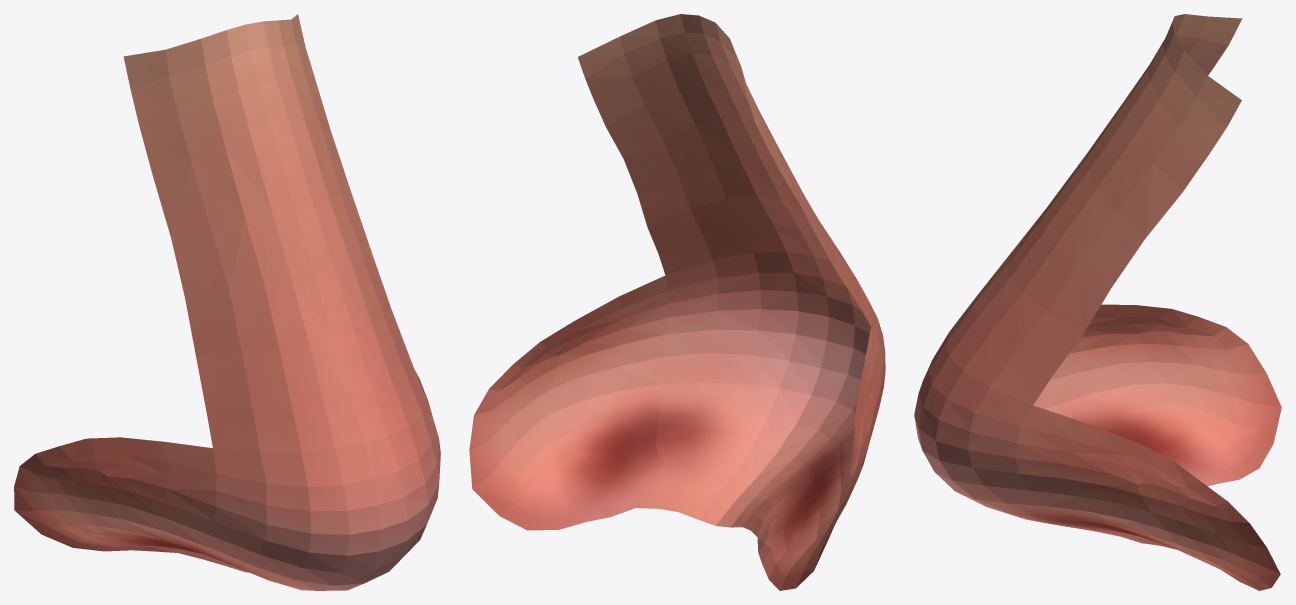
The model's file is euro-fem-nose-tilt-up.obj.
3 renders of one model, left to right at view 1: azimuth 30°, elevation 25°; view 2: azimuth 150°, elevation 25°; view 3: azimuth 270°, elevation 25°, orthographic. The views are drawn at different scales.
Visible parts, largest first — view 1: euro-fem-nose-til.003; view 2: euro-fem-nose-til.003; view 3: euro-fem-nose-til.003.
Boxes of the visible parts, x1,y1,x2,y2 form: euro-fem-nose-til.003: (14, 14, 440, 590); euro-fem-nose-til.003: (469, 14, 885, 590); euro-fem-nose-til.003: (914, 14, 1281, 590).
Bounding box in the file's own units: 0.1973 × 0.2678 × 0.1729.
1 material, 1 textured.
